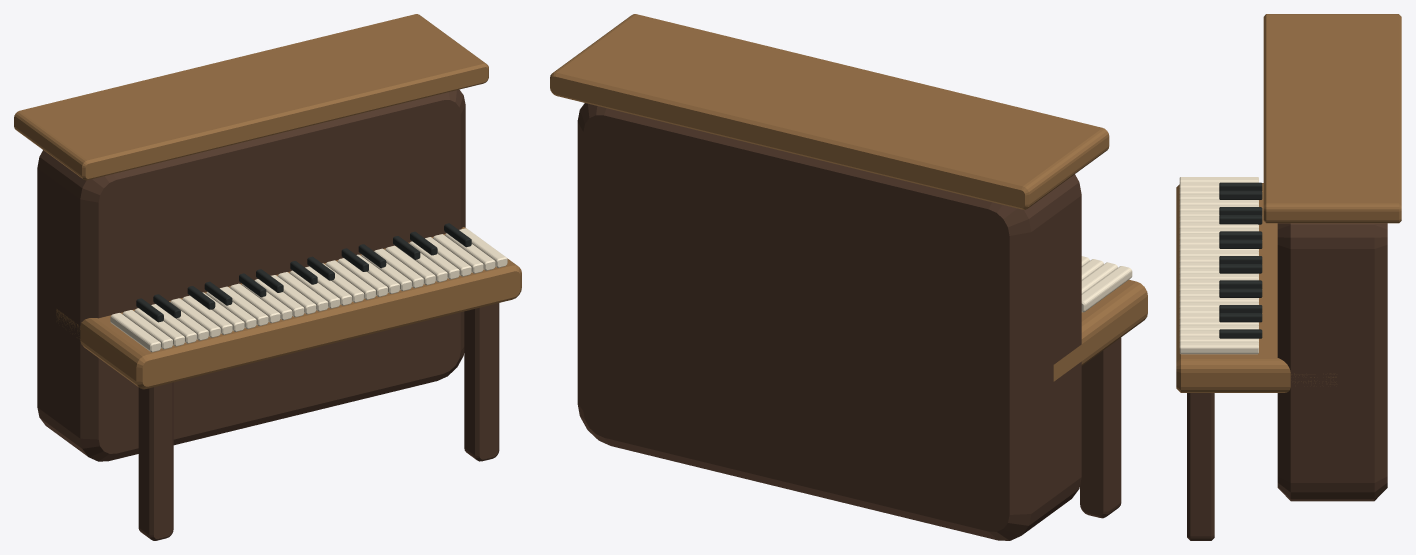
Rendered from piano.glb.
The picture shows the model from 3 angles, left to right: view 1: azimuth 30°, elevation 25°; view 2: azimuth 150°, elevation 25°; view 3: azimuth 270°, elevation 25°; orthographic projection. The views are drawn at different scales.
Visible parts, largest first — view 1: Cabinet, TopLid, KeyboardBed, FrontLeg (×2), IvoryKey (×7); view 2: Cabinet, TopLid, FrontLeg, KeyboardBed, IvoryKey; view 3: Cabinet, TopLid, IvoryKey (×23), KeyboardBed, BlackKey (×13), FrontLeg.
Boxes of the visible parts, x1,y1,x2,y2 form: Cabinet: (37,89,465,461); TopLid: (14,14,488,180); KeyboardBed: (56,227,521,389); FrontLeg (×2): (138,303,499,540); IvoryKey (×7): (110,234,483,352); Cabinet: (577,103,1081,540); TopLid: (550,14,1109,209); FrontLeg: (1080,337,1121,518); KeyboardBed: (1053,279,1147,381); IvoryKey: (1081,266,1132,312); Cabinet: (1277,223,1387,501); TopLid: (1263,14,1401,223); IvoryKey (×23): (1179,177,1258,354); KeyboardBed: (1176,183,1336,392); BlackKey (×13): (1219,182,1262,338); FrontLeg: (1187,393,1214,540).
Bounding box in the file's own units: 1.5 × 1.27 × 0.735.
